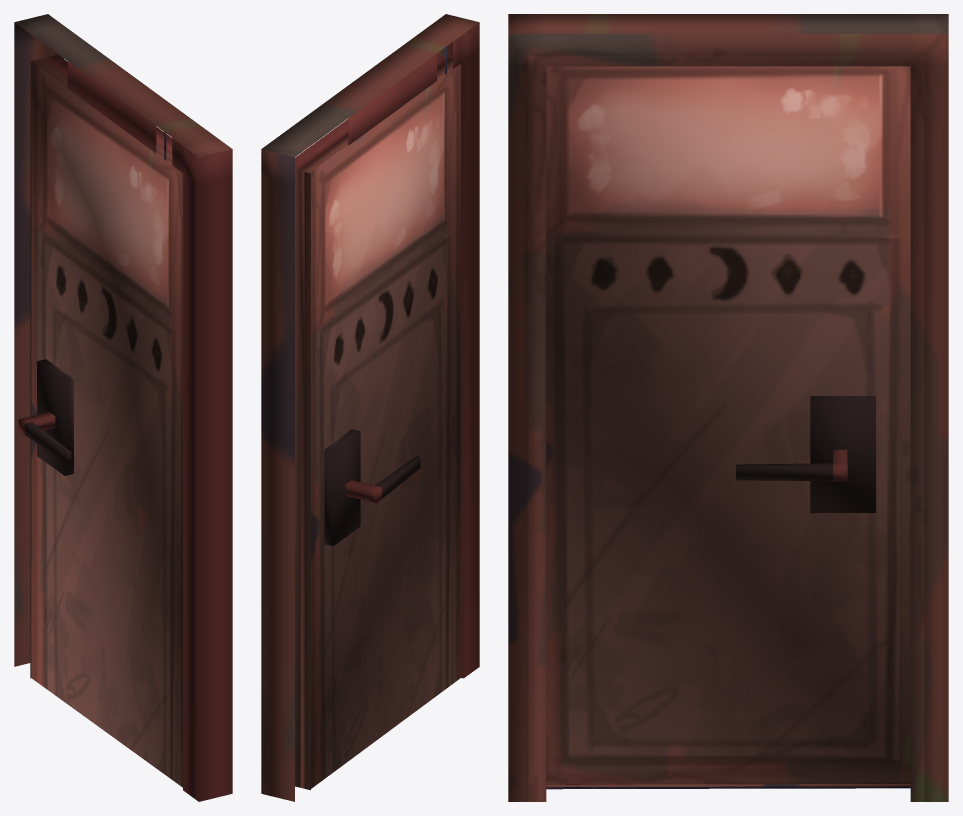
File: Porta.fbx
3 views of the same model, side by side, from view 1: azimuth 30°, elevation 25°; view 2: azimuth 150°, elevation 25°; view 3: azimuth 270°, elevation 25° (orthographic). The views are drawn at different scales.
Visible parts, largest first — view 1: Porta; view 2: Porta; view 3: Porta.
Boxes of the visible parts, x1,y1,x2,y2 form: Porta: [14, 14, 232, 801]; Porta: [261, 14, 479, 801]; Porta: [508, 14, 948, 801].
Bounding box in the file's own units: 36.39 × 134 × 258.
